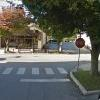Crosswalk: (1, 58, 70, 86)
